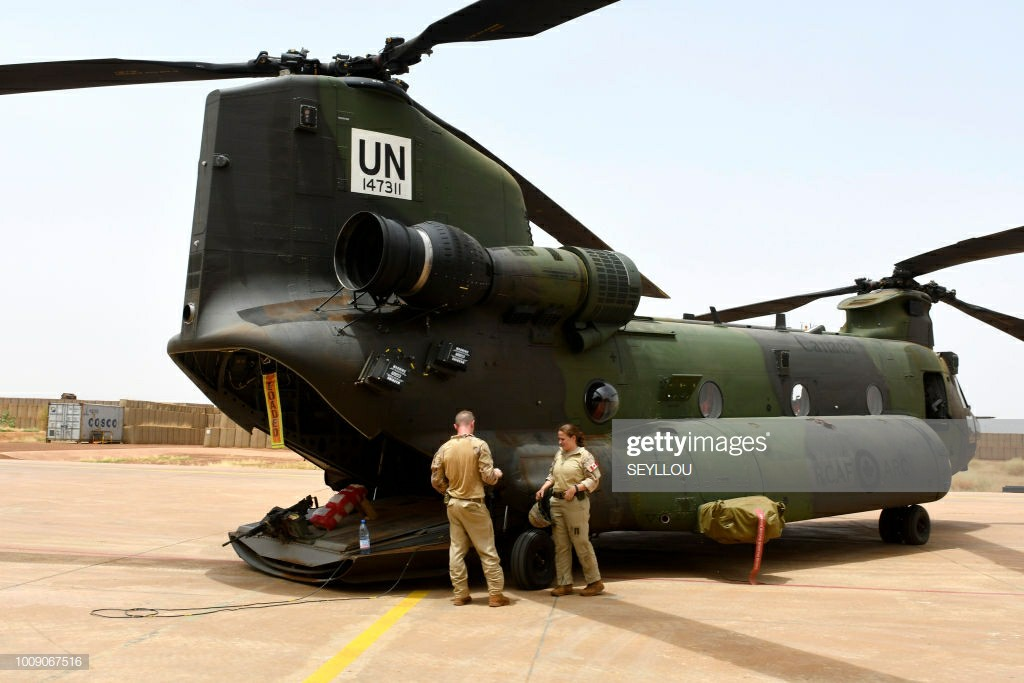chinook: (123, 30, 996, 598)
